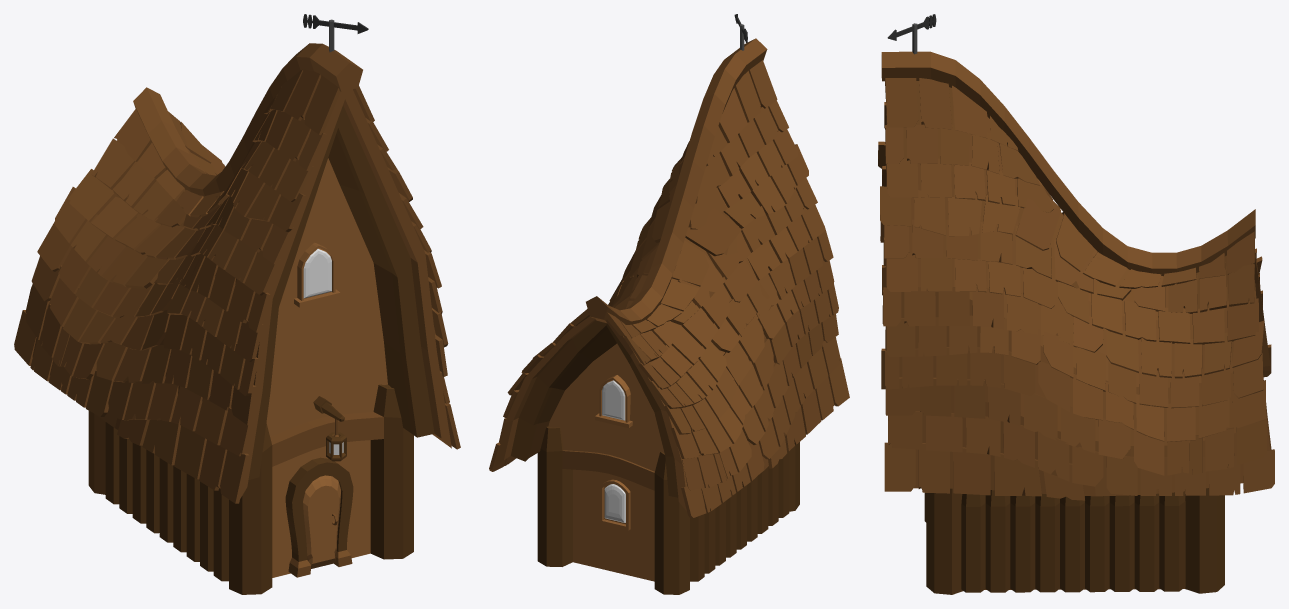
File: B_Blacksmith.fbx
3 renders of one model, left to right at view 1: azimuth 30°, elevation 25°; view 2: azimuth 150°, elevation 25°; view 3: azimuth 270°, elevation 25°, orthographic. The views are drawn at different scales.
Visible parts, largest first — view 1: B_Blacksmith; view 2: B_Blacksmith; view 3: B_Blacksmith.
Part boxes in pixels (x1,y1,x2,y2): B_Blacksmith: [14, 14, 460, 594]; B_Blacksmith: [489, 14, 849, 594]; B_Blacksmith: [878, 14, 1274, 594].
Bounding box in the file's own units: 308 × 656 × 446.
